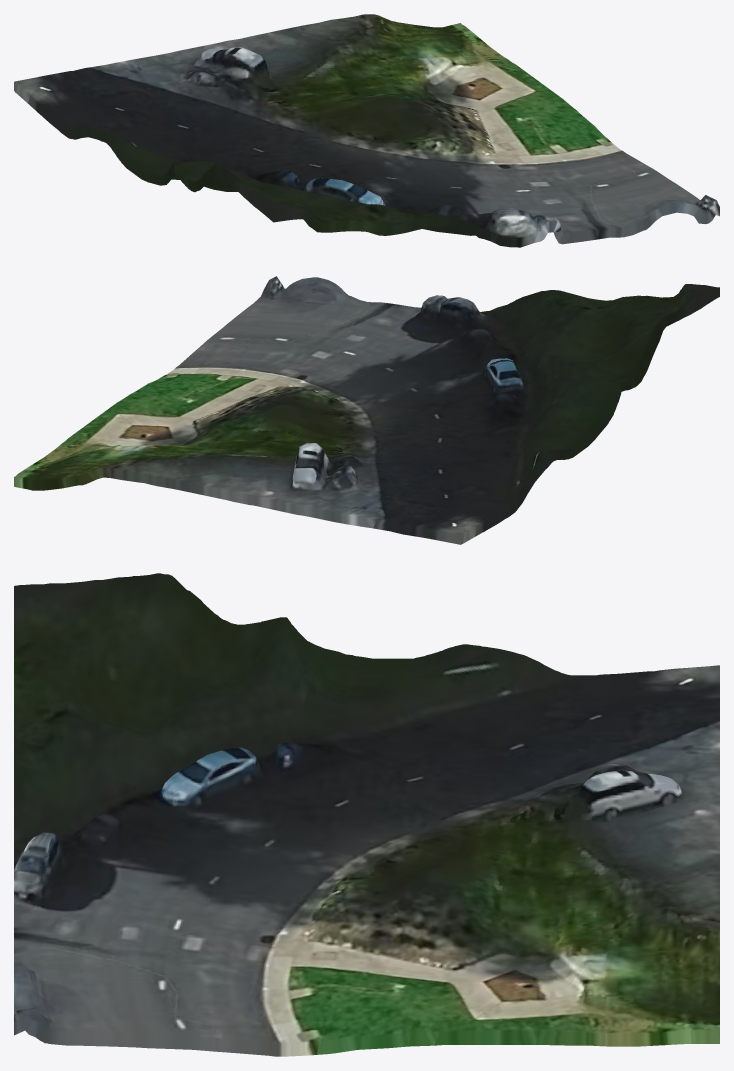
File: z20-167753-405191-h0-yup-uvflip-v3-world.glb
The picture shows the model from 3 angles, top to bottom: view 1: azimuth 30°, elevation 25°; view 2: azimuth 150°, elevation 25°; view 3: azimuth 270°, elevation 25°; orthographic projection. The views are drawn at different scales.
Size of the model in its own units: 30.16 by 8.84 by 30.32.
Materials: 1 (1 with a texture image).
